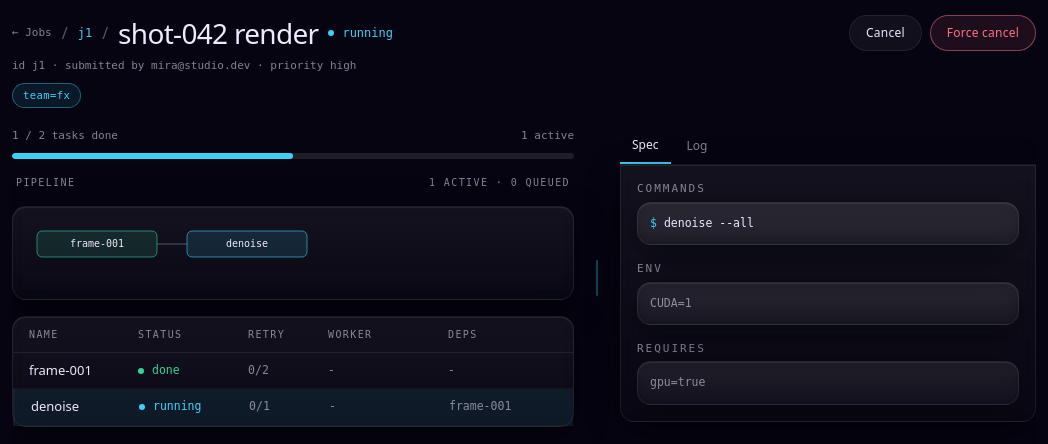
Test case: switching to the Log tab subscribes once, backfills once, and renders lines
Expected: the heading "shot-042 render" is shown, [118,12,318,54]
Click the tab "Log".
click(697, 146)  # box [674,128,719,164]
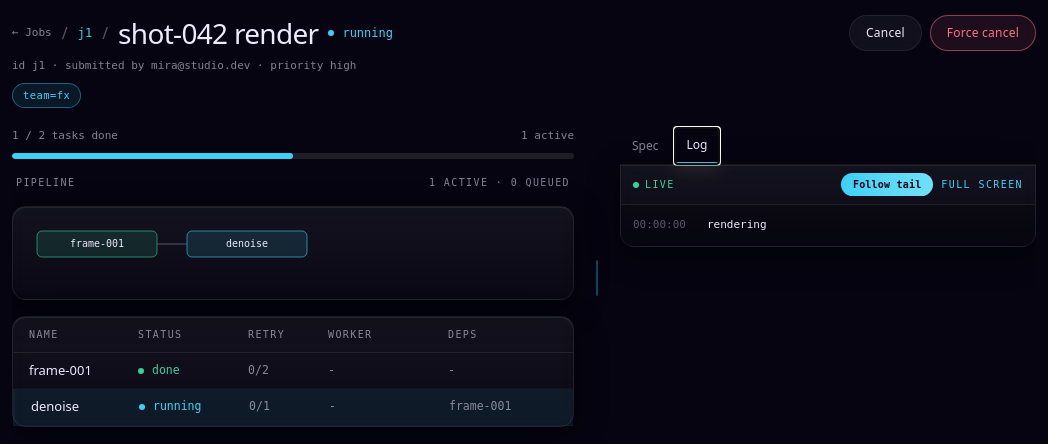
Now the text "rendering" is shown, box [707,218,767,231]
